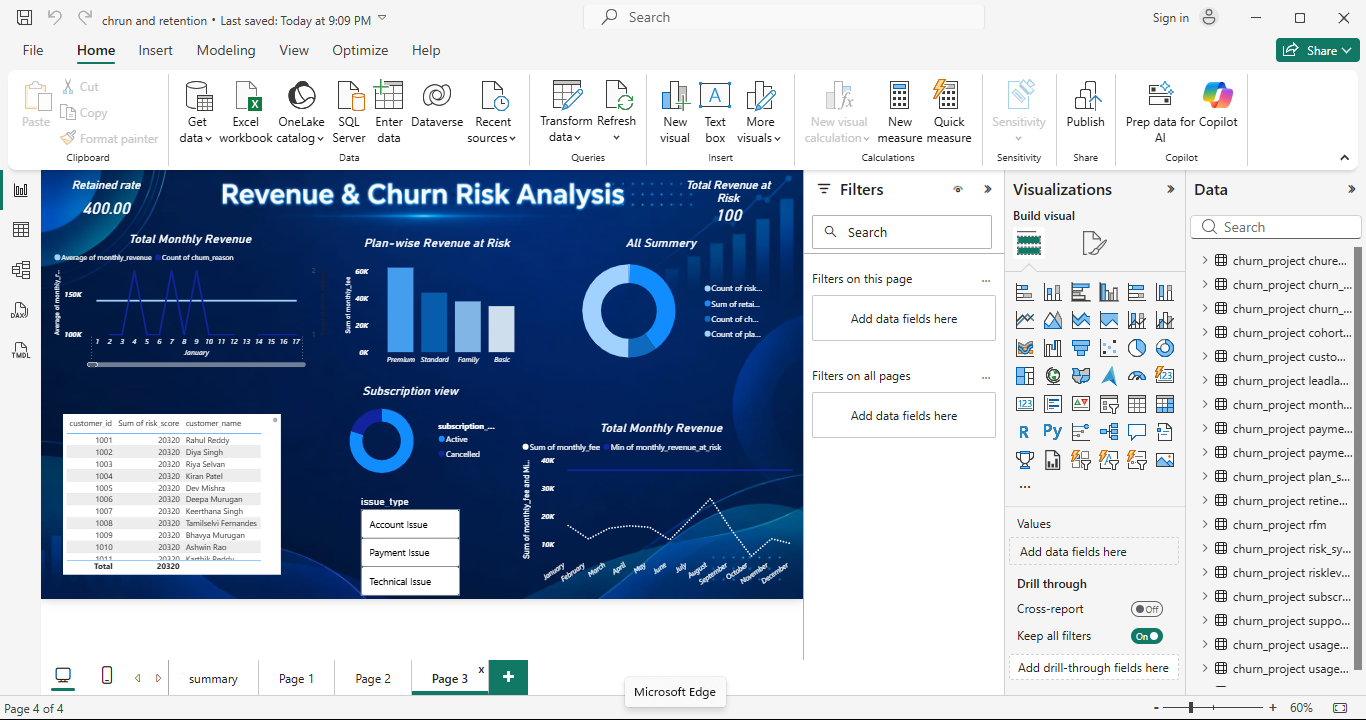

What the dashboard file says about the page in this screenshot:
{"tool":"powerbi","page":{"name":"Page 3","canvas":[1280,720],"ordinal":3},"visuals":[{"type":"lineChart","title":"Total Monthly Revenue","fields":{"Y":["Avg(churn_project retined_symmary.monthly_revenue)"],"Category":["churn_project customers.signup_date.Variation.Date Hierarchy.Month","churn_project customers.signup_date.Variation.Date Hierarchy.Day"],"Y2":["Count(churn_project churn_flags.churn_reason)"]},"box":[16.8,104.1,467,231.8],"z":0},{"type":"card","title":"Total Revenue at Risk","fields":{"Values":["Sum(churn_project chured_symmary.churned_customers)"]},"box":[1058.3,13.4,191.5,77.3],"z":1},{"type":"lineChart","title":"Total Monthly Revenue","fields":{"Category":["churn_project customers.signup_date.Variation.Date Hierarchy.Month"],"Y":["Sum(churn_project customers.monthly_fee)","Min(churn_project chured_symmary.monthly_revenue_at_risk)"]},"box":[802.9,421.6,477.1,299],"z":2},{"type":"lineStackedColumnComboChart","title":"Plan-wise Revenue at Risk","fields":{"Category":["churn_project customers.plan_type"],"Y":["Sum(churn_project customers.monthly_fee)"]},"box":[505.6,110.9,319.2,225.1],"z":3},{"type":"donutChart","title":"All Summery","fields":{"Y":["CountNonNull(churn_project risk_symmary.risk_level)","Sum(churn_project churn_symmary.retained_customers)","CountNonNull(churn_project churn_flags.churn_reason)","CountNonNull(churn_project customers.plan_type)"]},"box":[856.7,110.9,369.6,228.5],"z":4},{"type":"tableEx","fields":{"Values":["churn_project customers.customer_id","Sum(churn_project risklevel_symmary.risk_score)","churn_project customers.customer_name"]},"box":[37,409.9,366.2,270.4],"z":5},{"type":"donutChart","title":"Subscription view","fields":{"Y":["Sum(churn_project subscriptions.subscription_id)"],"Category":["churn_project subscriptions.subscription_status"]},"box":[472,359.5,297.3,168],"z":6},{"type":"card","title":"Retained rate","fields":{"Values":["Sum(churn_project churn_symmary.retained_customers)"]},"box":[13.4,13.4,191.5,77.3],"z":7},{"type":"advancedSlicerVisual","fields":{"Values":["churn_project support_tickets.issue_type"]},"box":[532.5,545.9,176.4,174.7],"z":8}]}

Visuals, with their boxes on the page's 1280x720 design canvas (x1, y1, x2, y2). These are canvas units, not pixel positions in the 1366x720 screenshot, which may show the page scaled, cropped or inside an application window:
"Total Monthly Revenue" lineChart: (17,104,484,336)
"Total Revenue at Risk" card: (1058,13,1250,91)
"Total Monthly Revenue" lineChart: (803,422,1280,721)
"Plan-wise Revenue at Risk" lineStackedColumnComboChart: (506,111,825,336)
"All Summery" donutChart: (857,111,1226,339)
tableEx - churn_project customers.customer_id x Sum(churn_project risklevel_symmary.risk_score): (37,410,403,680)
"Subscription view" donutChart: (472,360,769,528)
"Retained rate" card: (13,13,205,91)
advancedSlicerVisual - churn_project support_tickets.issue_type: (532,546,709,721)
